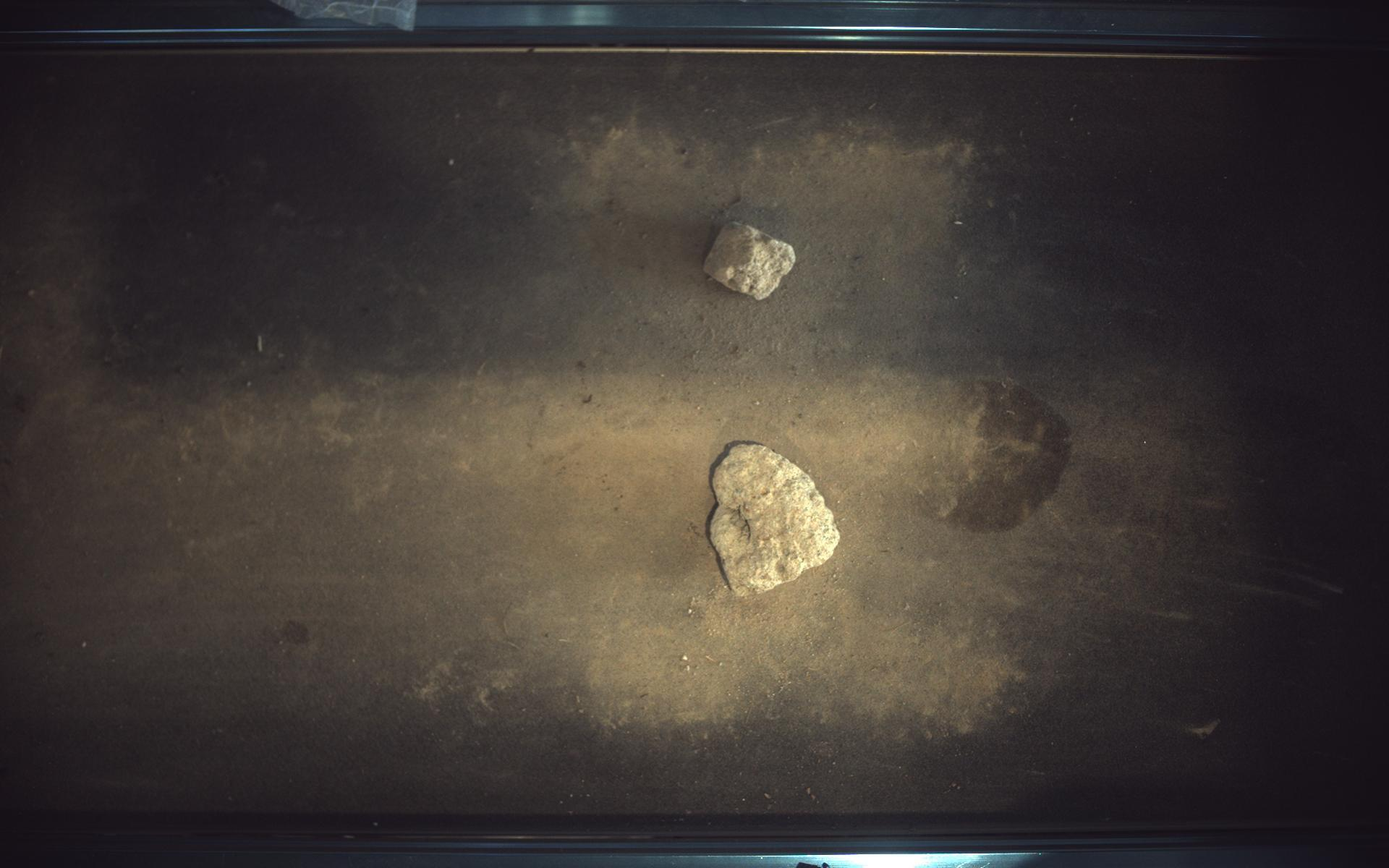stone: (712, 444, 841, 596), (705, 221, 797, 299)
